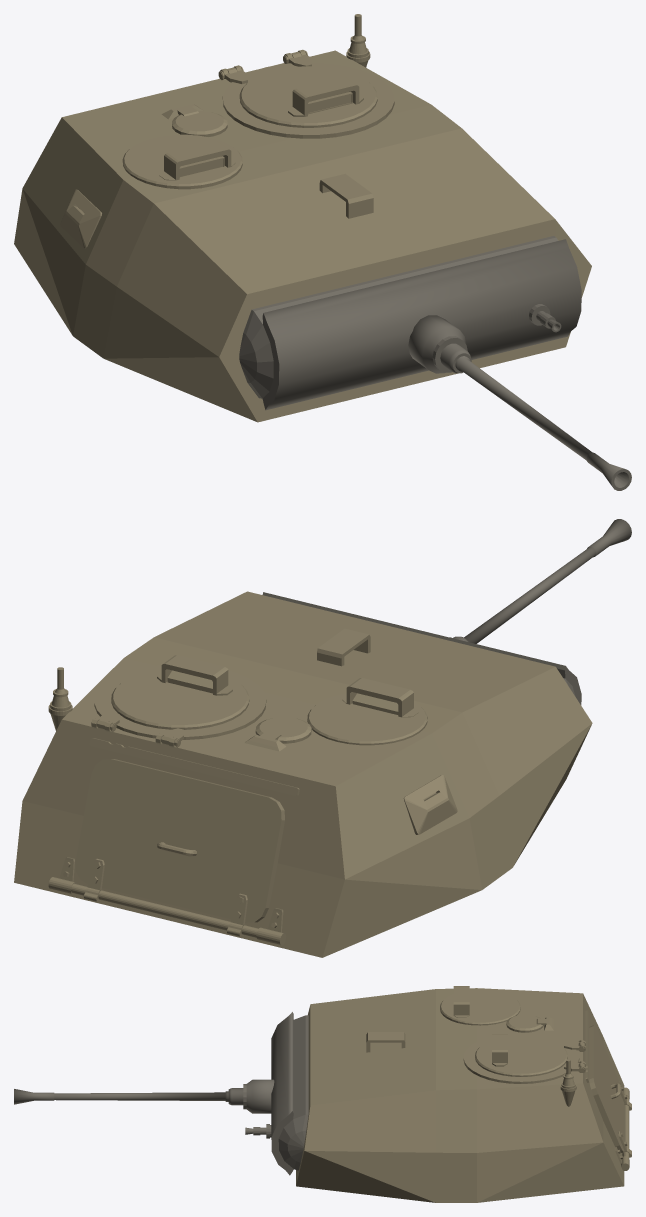
Rendered from luchs_turret.fbx.
3 views of the same model, one above another, from view 1: azimuth 30°, elevation 25°; view 2: azimuth 150°, elevation 25°; view 3: azimuth 270°, elevation 25° (orthographic). The views are drawn at different scales.
Parts seen in each view (by area): view 1: Turret, Mantlet, Barrel; view 2: Turret, Barrel, Mantlet; view 3: Turret, Mantlet, Barrel.
Boxes of the visible parts, x1,y1,x2,y2 form: Turret: [14, 14, 591, 422]; Mantlet: [239, 236, 581, 410]; Barrel: [455, 356, 631, 490]; Turret: [14, 591, 592, 957]; Barrel: [464, 519, 631, 643]; Mantlet: [262, 592, 581, 705]; Turret: [296, 986, 631, 1202]; Mantlet: [228, 1012, 308, 1175]; Barrel: [14, 1089, 228, 1104].
Size of the model in its own units: 135 by 58.46 by 263.
